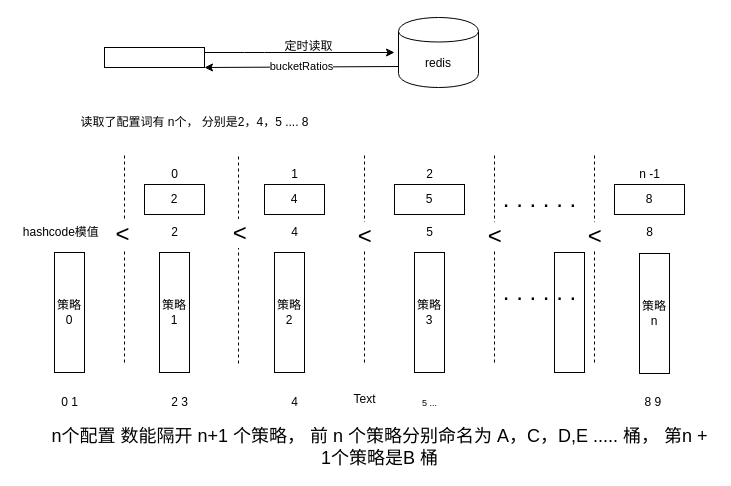
The diagram is 731 pixels wide and 486 high, and some of its shapes have lost their labels. The shapes that lost their labels are listed below. From the top down, each one's centre as x and y in pixels, then its label:
At [154,57]: "suggest:buckets".
At [569,312]: "策略 n-1".
